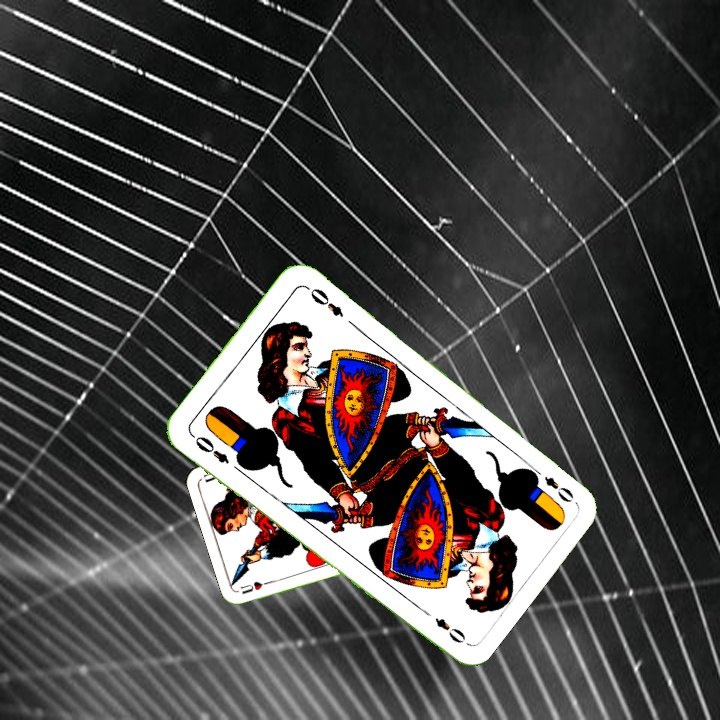EO: (187, 430, 232, 467), (540, 472, 576, 506)
HU: (236, 576, 276, 597)
